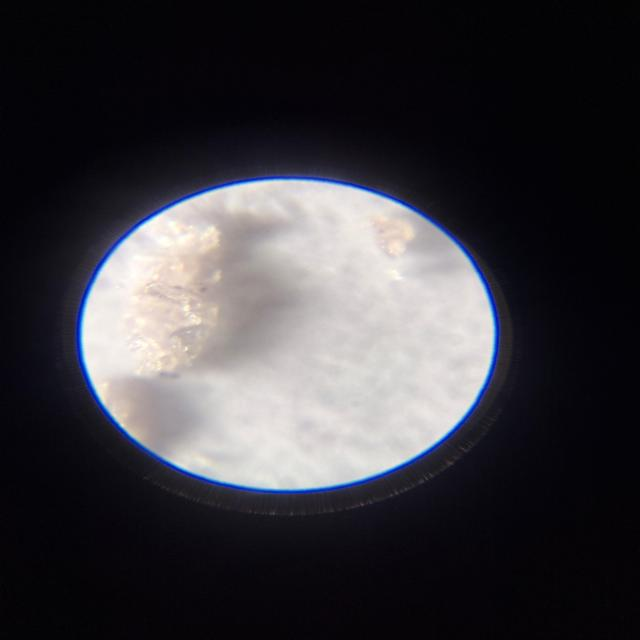microplastic_type_1: (80, 189, 265, 470), (369, 205, 437, 260)
